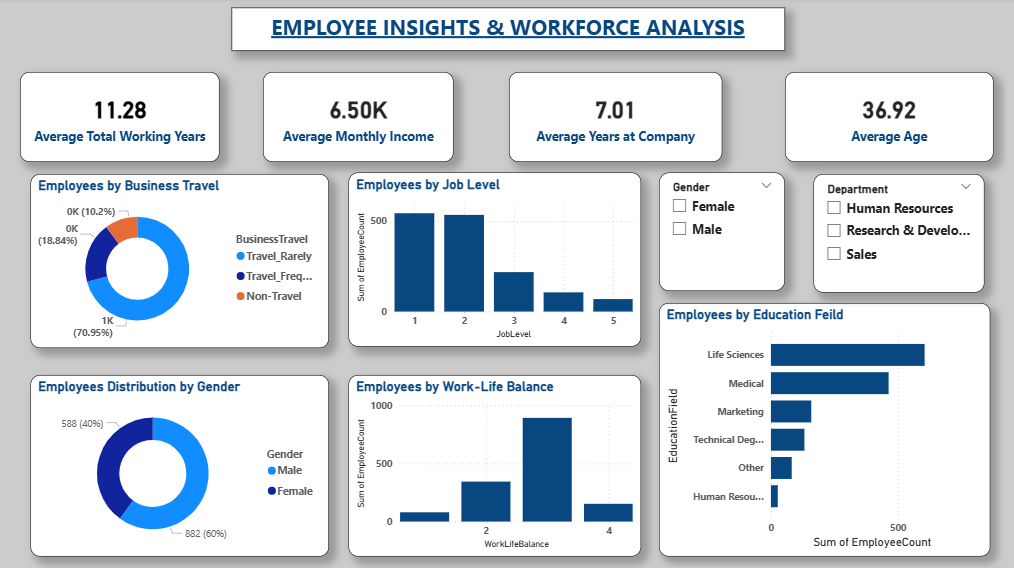

What the dashboard file says about the page in this screenshot:
{"tool":"powerbi","page":{"name":"Employee Insights","canvas":[1280,720],"ordinal":2},"visuals":[{"type":"textbox","box":[292.9,13.2,697.3,54.8],"z":0},{"type":"card","fields":{"Values":["HR_Employee_Data.Average Age"]},"box":[990.2,94.5,262.7,113.4],"z":1000},{"type":"card","fields":{"Values":["HR_Employee_Data.Average Total Working Years"]},"box":[26.5,94.5,251.3,113.4],"z":2000},{"type":"card","fields":{"Values":["HR_Employee_Data.Average Years at Company"]},"box":[642.5,94.5,268.3,113.4],"z":3000},{"type":"card","fields":{"Values":["HR_Employee_Data.Average Monthly Income"]},"box":[332.6,94.5,240,113.4],"z":4000},{"type":"donutChart","title":"Employees Distribution by Gender","fields":{"Category":["HR_Employee_Data.Gender"],"Y":["Sum(HR_Employee_Data.EmployeeCount)"]},"box":[39.7,476.2,376.1,228.7],"z":5000},{"type":"clusteredBarChart","title":" Employees by Education Feild","fields":{"Category":["HR_Employee_Data.EducationField"],"Y":["Sum(HR_Employee_Data.EmployeeCount)"]},"box":[831.5,385.5,417.6,319.4],"z":6000},{"type":"donutChart","title":"Employees by Business Travel","fields":{"Category":["HR_Employee_Data.BusinessTravel"],"Y":["Sum(HR_Employee_Data.EmployeeCount)"]},"box":[39.7,223,376.1,219.2],"z":7000},{"type":"clusteredColumnChart","title":" Employees by Job Level","fields":{"Category":["HR_Employee_Data.JobLevel"],"Y":["Sum(HR_Employee_Data.EmployeeCount)"]},"box":[440.3,221.1,368.5,219.2],"z":8000},{"type":"clusteredColumnChart","title":"Employees by Work-Life Balance","fields":{"Category":["HR_Employee_Data.WorkLifeBalance"],"Y":["Sum(HR_Employee_Data.EmployeeCount)"]},"box":[440.3,476.2,368.5,228.7],"z":9000},{"type":"slicer","fields":{"Values":["HR_Employee_Data.Department"]},"box":[1026.1,223,215.4,149.3],"z":10000},{"type":"slicer","fields":{"Values":["HR_Employee_Data.Gender"]},"box":[831.5,221.1,158.7,149.3],"z":11000}]}

Visuals, with their boxes in screenshot pixels (x1, y1, x2, y2), scaled from the page's 1280x720 canvas onto the 1014x568 screenshot:
textbox: 232:10:784:54
card - HR_Employee_Data.Average Age: 784:75:993:164
card - HR_Employee_Data.Average Total Working Years: 21:75:220:164
card - HR_Employee_Data.Average Years at Company: 509:75:722:164
card - HR_Employee_Data.Average Monthly Income: 263:75:454:164
"Employees Distribution by Gender" donutChart: 31:376:329:556
" Employees by Education Feild" clusteredBarChart: 659:304:990:556
"Employees by Business Travel" donutChart: 31:176:329:349
" Employees by Job Level" clusteredColumnChart: 349:174:641:347
"Employees by Work-Life Balance" clusteredColumnChart: 349:376:641:556
slicer - HR_Employee_Data.Department: 813:176:984:294
slicer - HR_Employee_Data.Gender: 659:174:784:292
